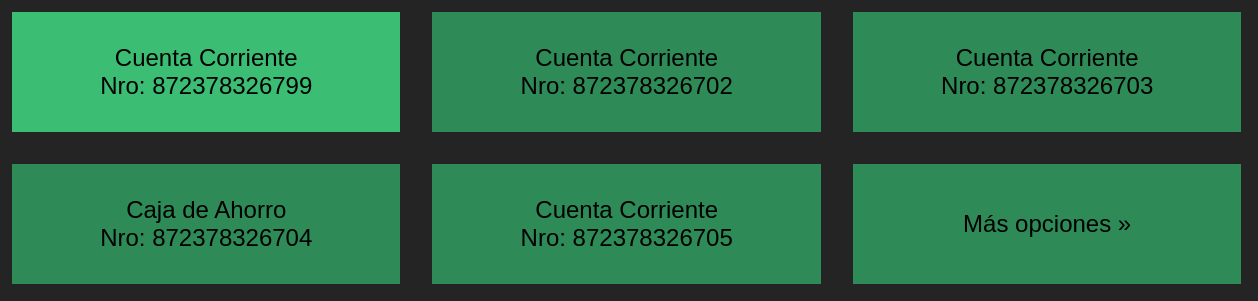
Test: AccountsList › should go to next page
Click the button "Más opciones »" at (1047, 224), box [853, 164, 1241, 284]
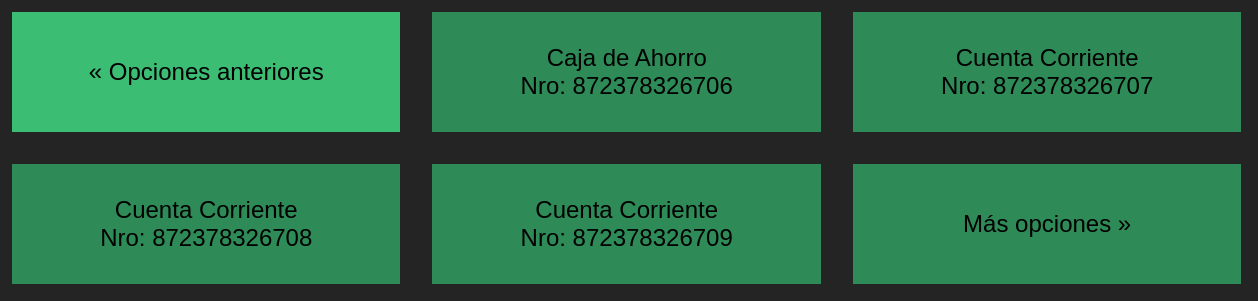
Expected: the text "« Opciones anteriores" is shown, [89, 58, 324, 85]
